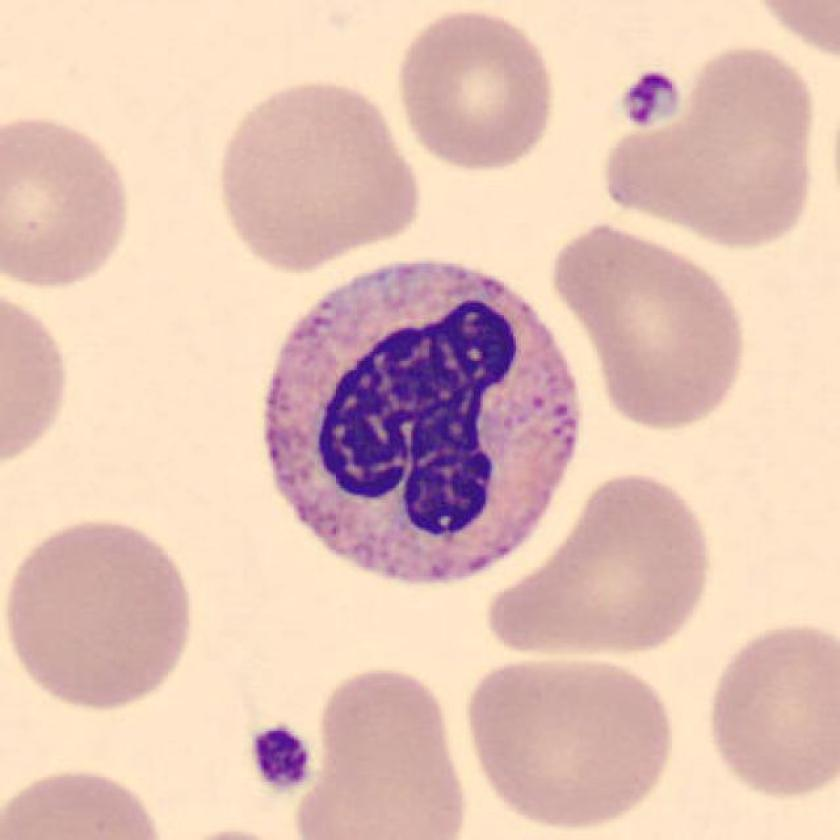neutrophil: (265, 263, 581, 580)
